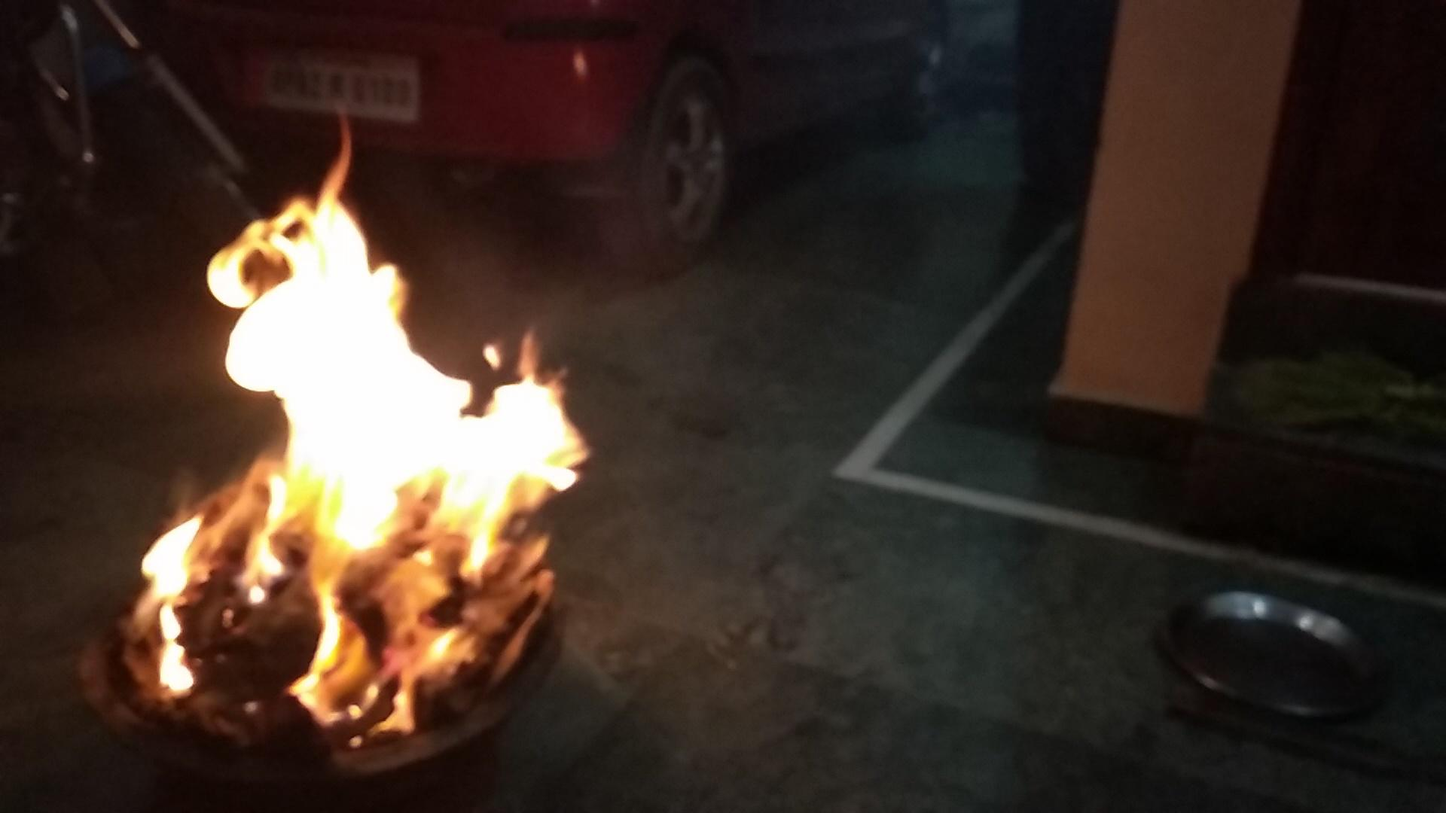fire: (144, 118, 581, 704)
